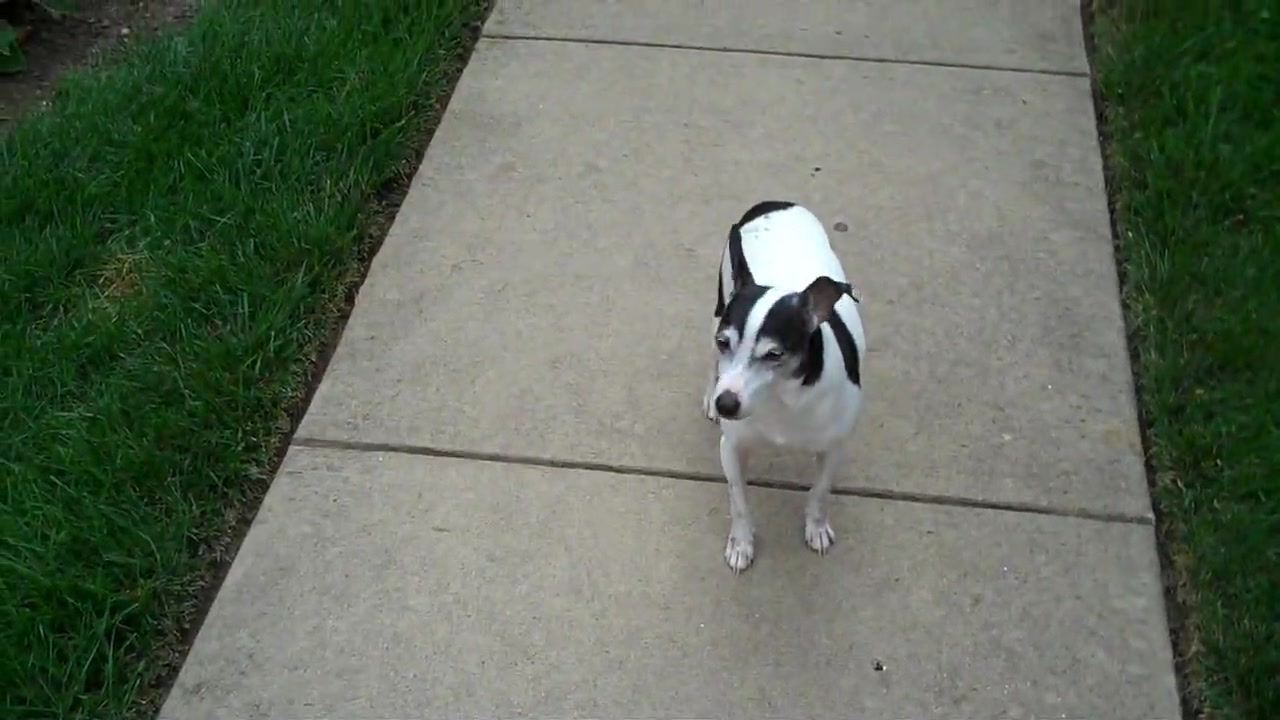dog: (702, 195, 867, 577)
